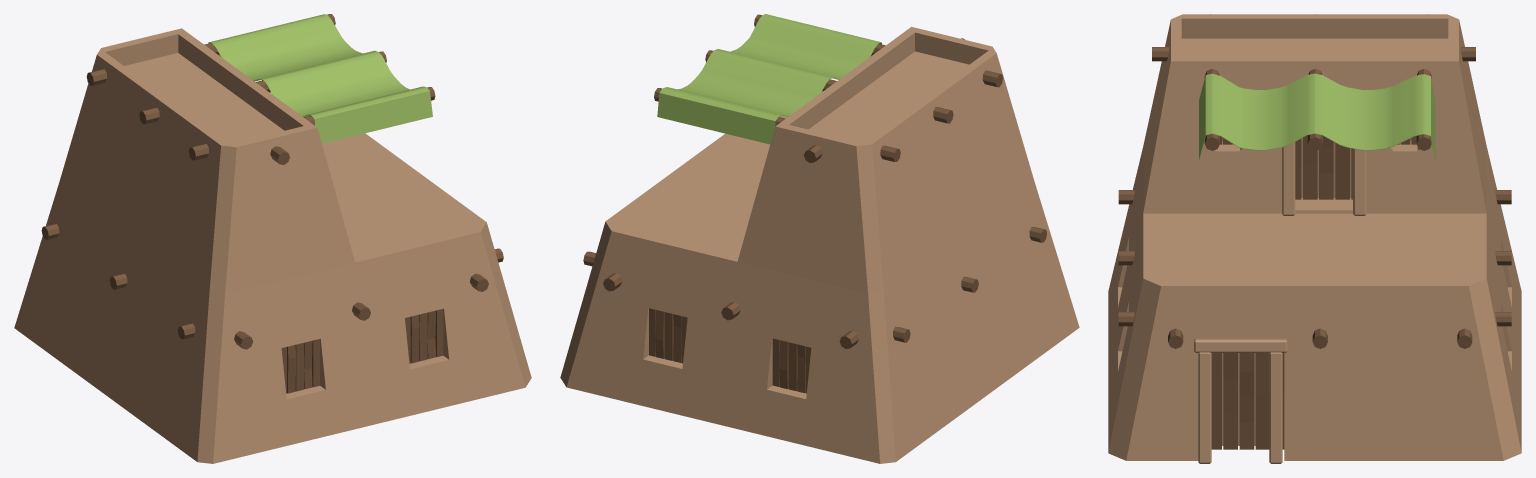
Rendered from Desert_Village_House_1.fbx.
3 renders of one model, left to right at view 1: azimuth 30°, elevation 25°; view 2: azimuth 150°, elevation 25°; view 3: azimuth 270°, elevation 25°, orthographic. The views are drawn at different scales.
Parts seen in each view (by area): view 1: House_1_Base, House_1_Towel_Big_Roof, House_1_Windows, House_1_Beams_Area; view 2: House_1_Base, House_1_Towel_Big_Roof, House_1_Windows, House_1_Beams_Area; view 3: House_1_Base, House_1_Towel_Big_Roof, House_1_Door, House_1_Door_Platband, House_1_Door.001, House_1_Beams_Area, House_1_Door_Platband.001, House_1_Beams_Towel..
Boxes of the visible parts, x1,y1,x2,y2 form: House_1_Base: (14,28,531,463); House_1_Towel_Big_Roof: (208,14,432,143); House_1_Windows: (281,309,443,393); House_1_Beams_Area: (41,69,503,349); House_1_Base: (560,27,1079,463); House_1_Towel_Big_Roof: (657,14,881,144); House_1_Windows: (649,308,811,393); House_1_Beams_Area: (583,38,1046,348); House_1_Base: (1108,14,1521,460); House_1_Towel_Big_Roof: (1199,73,1435,159); House_1_Door: (1211,353,1284,449); House_1_Door_Platband: (1194,338,1287,463); House_1_Door.001: (1295,135,1352,199); House_1_Beams_Area: (1118,14,1511,348); House_1_Door_Platband.001: (1282,142,1366,215); House_1_Beams_Towel.: (1204,68,1431,150).
Size of the model in its own units: 735 by 581 by 722.
